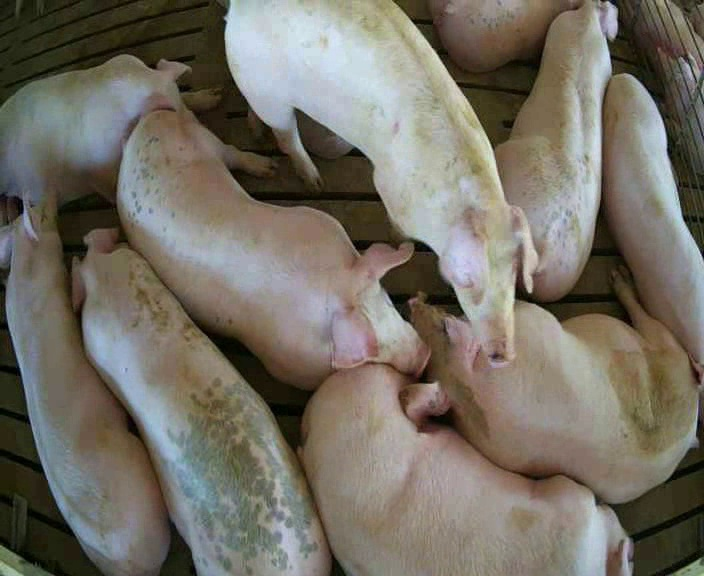pig: (227, 3, 535, 361), (72, 229, 330, 573), (120, 108, 427, 388), (302, 364, 631, 573), (400, 272, 697, 502), (0, 187, 168, 573), (495, 1, 618, 301), (0, 55, 222, 205), (603, 74, 703, 383), (430, 1, 578, 71)
